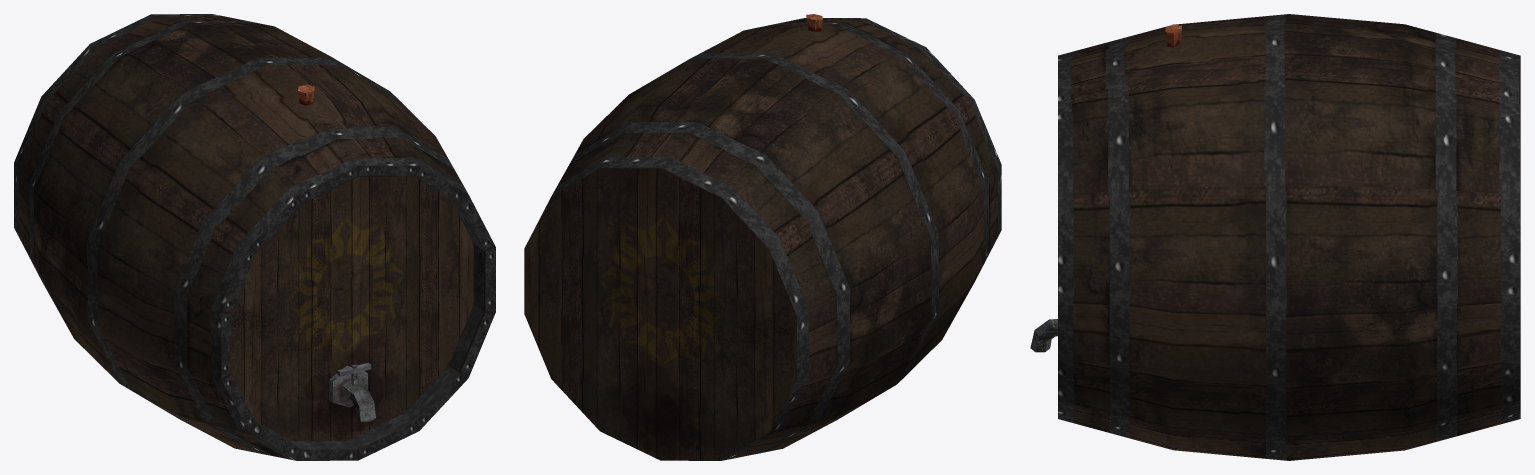
Rendered from WineCask.fbx.
3 views of the same model, side by side, from view 1: azimuth 30°, elevation 25°; view 2: azimuth 150°, elevation 25°; view 3: azimuth 270°, elevation 25° (orthographic). The views are drawn at different scales.
Visible parts, largest first — view 1: WineCask:Mesh; view 2: WineCask:Mesh; view 3: WineCask:Mesh.
Boxes of the visible parts, x1,y1,x2,y2 form: WineCask:Mesh: [14, 14, 495, 460]; WineCask:Mesh: [524, 14, 1001, 460]; WineCask:Mesh: [1030, 14, 1520, 460].
Bounding box in the file's own units: 1.02 × 1.06 × 1.15.
